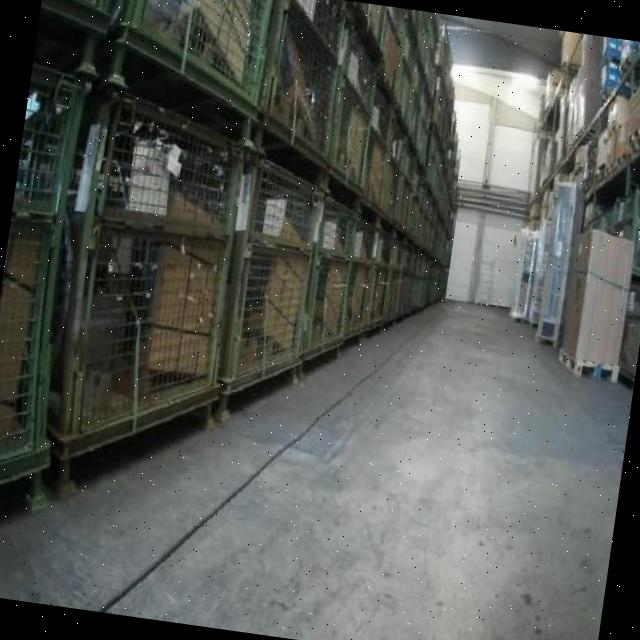pallet: (548, 341, 628, 393)
